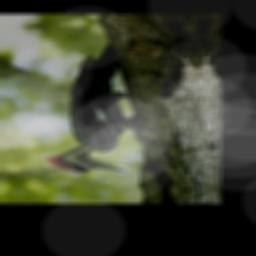Woodpecker: (21, 42, 147, 178)
